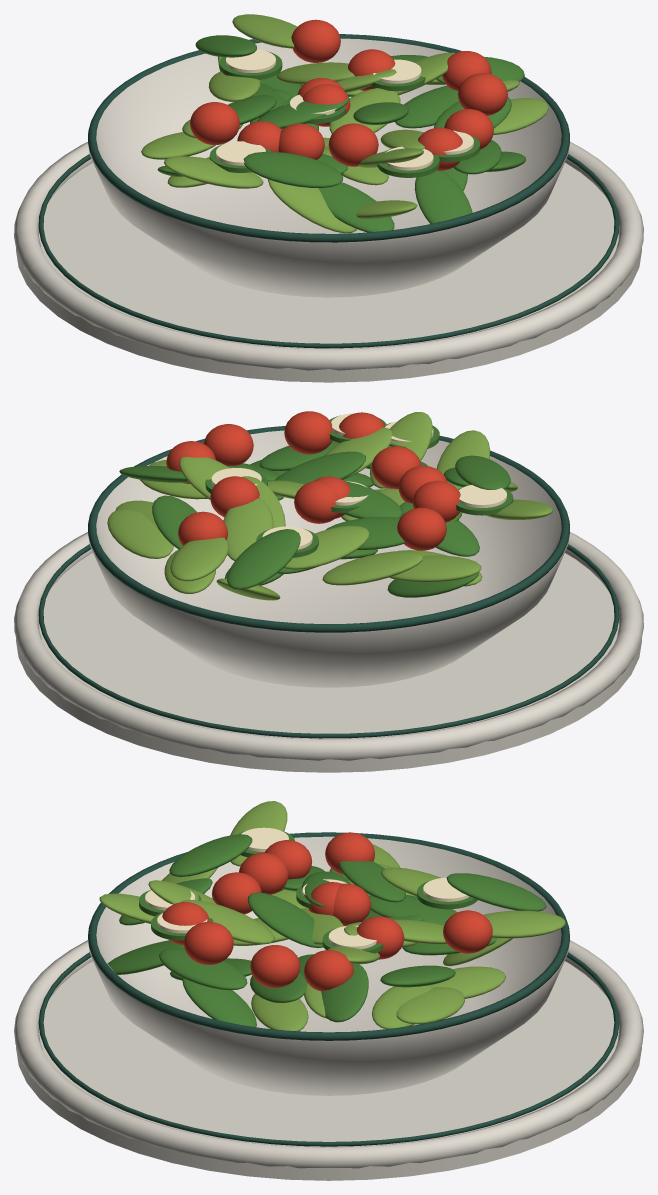
File: salad-regular.glb
The picture shows the model from 3 angles, top to bottom: view 1: azimuth 30°, elevation 25°; view 2: azimuth 150°, elevation 25°; view 3: azimuth 270°, elevation 25°; orthographic projection.
Parts seen in each view (by area): view 1: Morsel original salad regular, leaf (×25); view 2: Morsel original salad regular, leaf (×25); view 3: Morsel original salad regular, leaf (×26).
Boxes of the visible parts, x1,y1,x2,y2 form: Morsel original salad regular: (14, 19, 643, 382); leaf (×25): (141, 14, 548, 233); Morsel original salad regular: (14, 411, 643, 772); leaf (×25): (107, 412, 553, 600); Morsel original salad regular: (14, 827, 643, 1180); leaf (×26): (99, 801, 565, 1031).
Bounding box in the file's own units: 3.02 × 0.8663 × 3.02.
